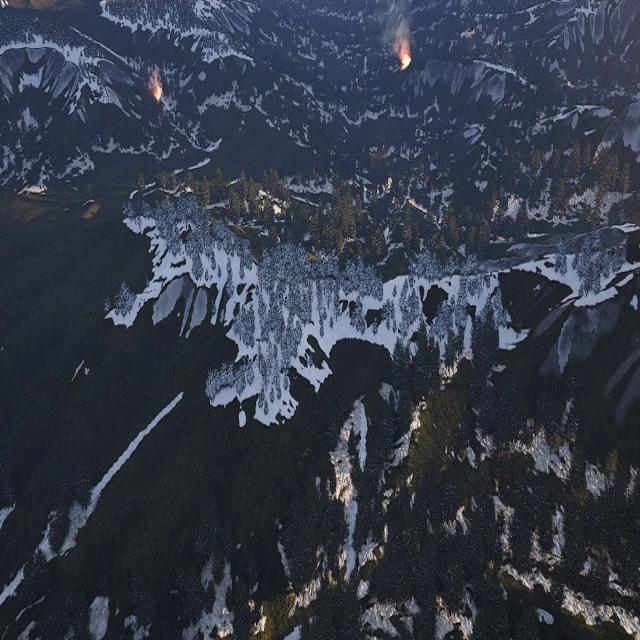fire: (152, 76, 162, 102), (398, 50, 411, 70)
smoke: (380, 0, 413, 51)
